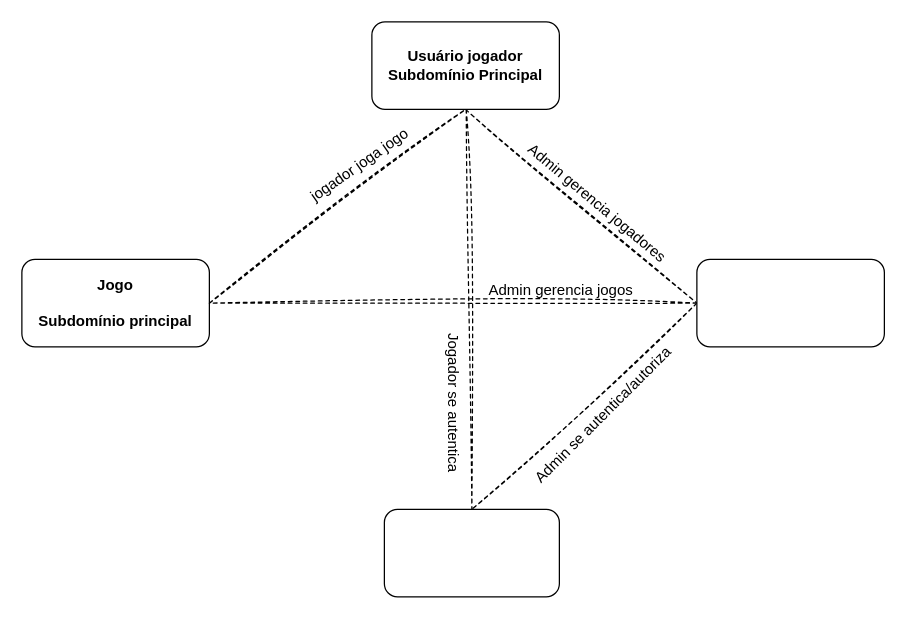
Image size: 906x619. Some labels were removed from this diagram. Each missing label, with the centre of its shape:
"Autenticação e Autorização Subdomínio de suporte" goes at point (471, 552).
"Usuário Administrador Subdomínio genérico" goes at point (790, 302).
